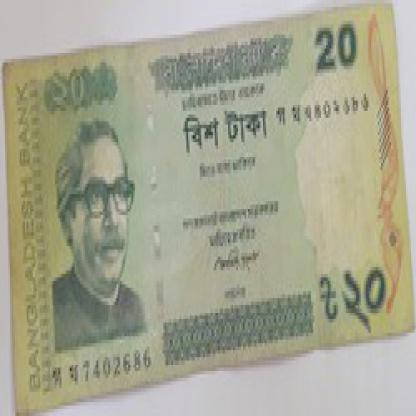Twenty: (318, 253, 393, 333), (180, 108, 280, 152), (38, 66, 123, 104), (308, 24, 363, 80)
